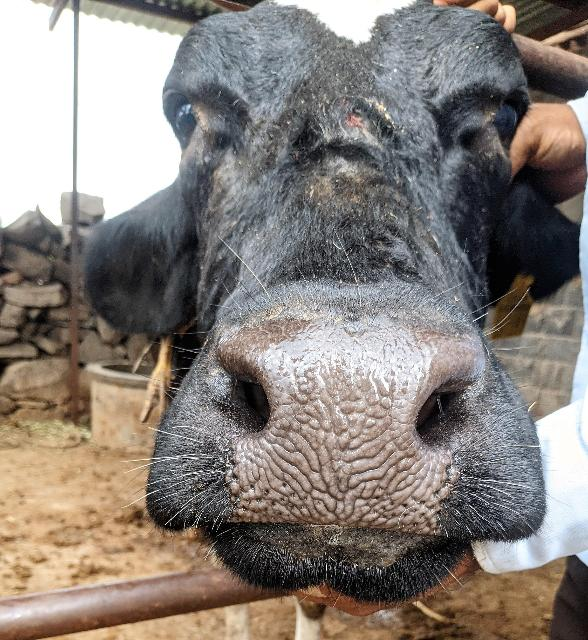Muzzle: (202, 310, 455, 518)
